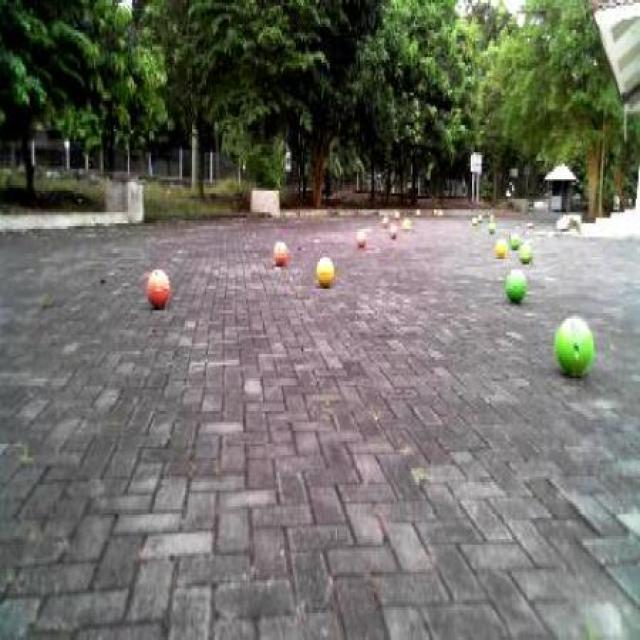buoy: (546, 309, 600, 391), (142, 258, 176, 317), (504, 256, 527, 306), (310, 246, 336, 290), (271, 234, 292, 269)
